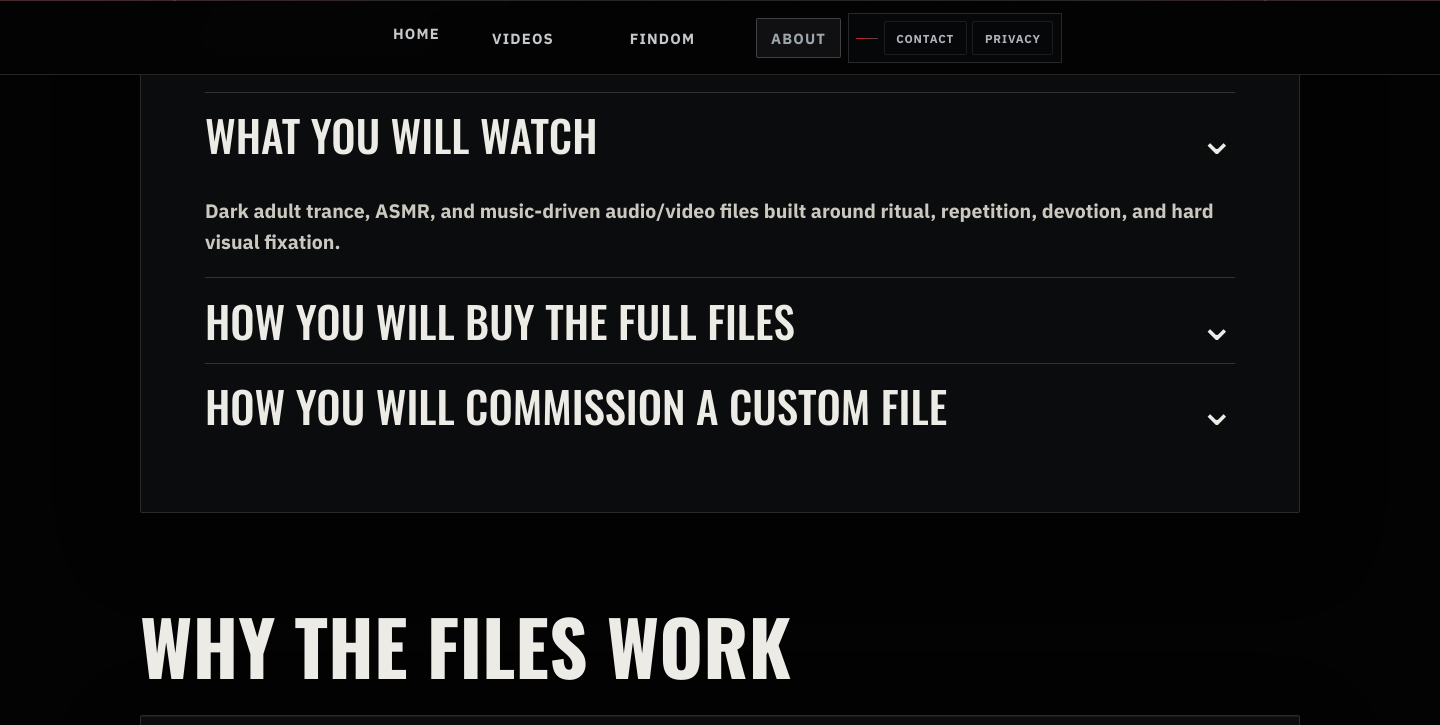
Test: App routing and interactions › expands about accordions
The width and height of the screenshot is (1440, 725).
(page scrolled)
Click the button "How you will buy the full files ⌄": (720, 320) [205,278,1235,363]
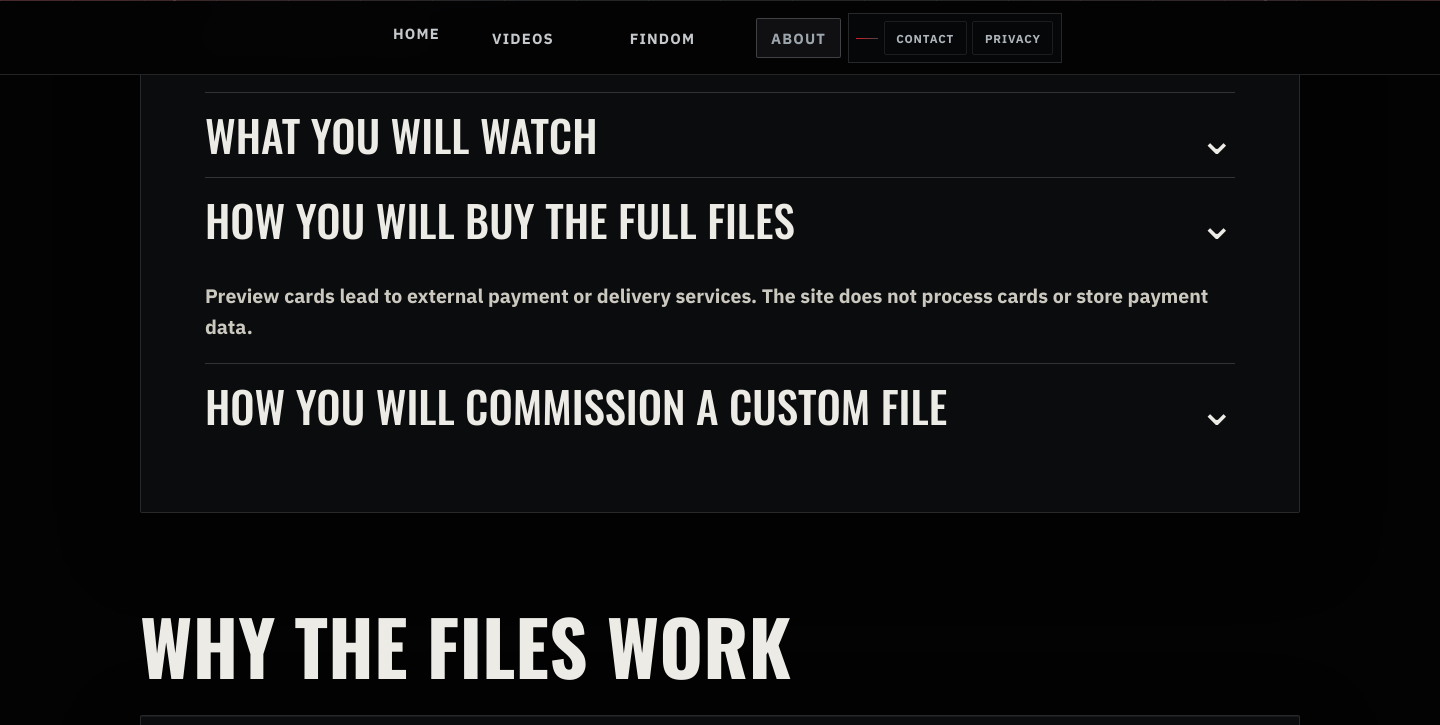
Result: the text "external payment or delivery services" is shown at [205,284,1208,339]
